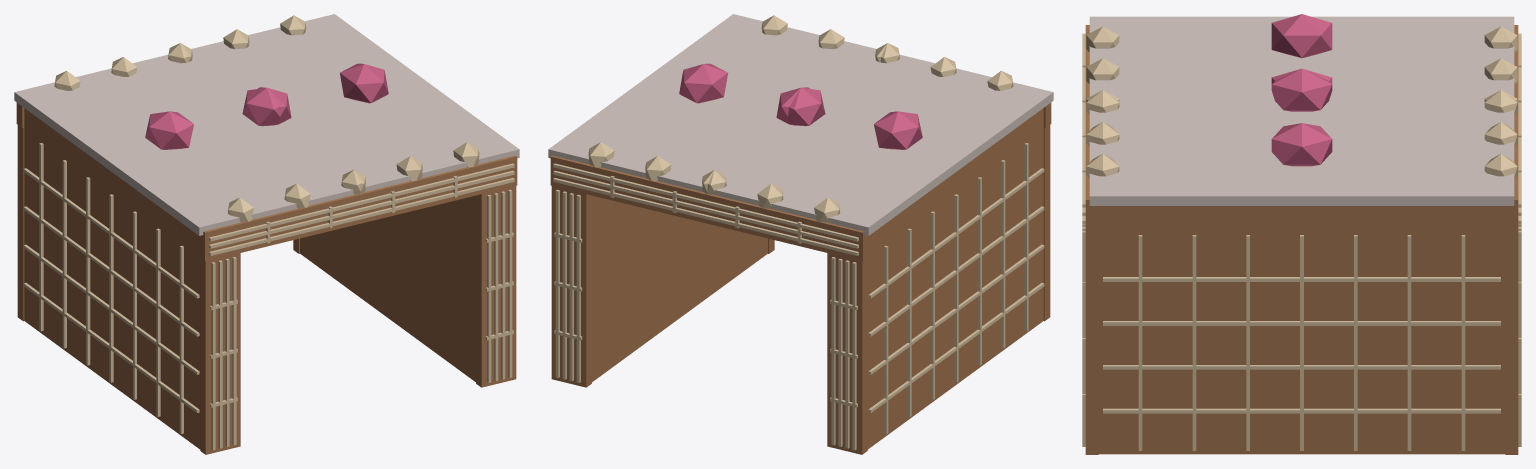
Rendered from Candyland_WaferTunnel_Showcase.glb.
The picture shows the model from 3 angles, left to right: view 1: azimuth 30°, elevation 25°; view 2: azimuth 150°, elevation 25°; view 3: azimuth 270°, elevation 25°; orthographic projection. The views are drawn at different scales.
Parts seen in each view (by area): view 1: Candyland_WaferTunnel_Showcase; view 2: Candyland_WaferTunnel_Showcase; view 3: Candyland_WaferTunnel_Showcase.
Part boxes in pixels (bbox=[...]): Candyland_WaferTunnel_Showcase: bbox=[14, 14, 519, 454]; Candyland_WaferTunnel_Showcase: bbox=[548, 14, 1053, 454]; Candyland_WaferTunnel_Showcase: bbox=[1082, 14, 1521, 454].
Bounding box in the file's own units: 3.95 × 3.07 × 4.09.
